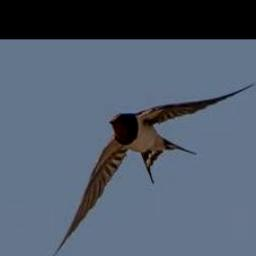Swallow: (47, 83, 256, 256)
